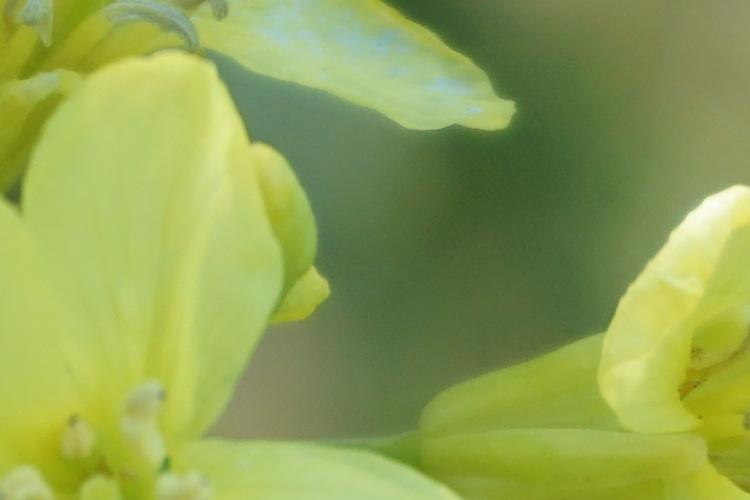yellow: (2, 63, 435, 500), (1, 1, 526, 202), (501, 180, 750, 500)
